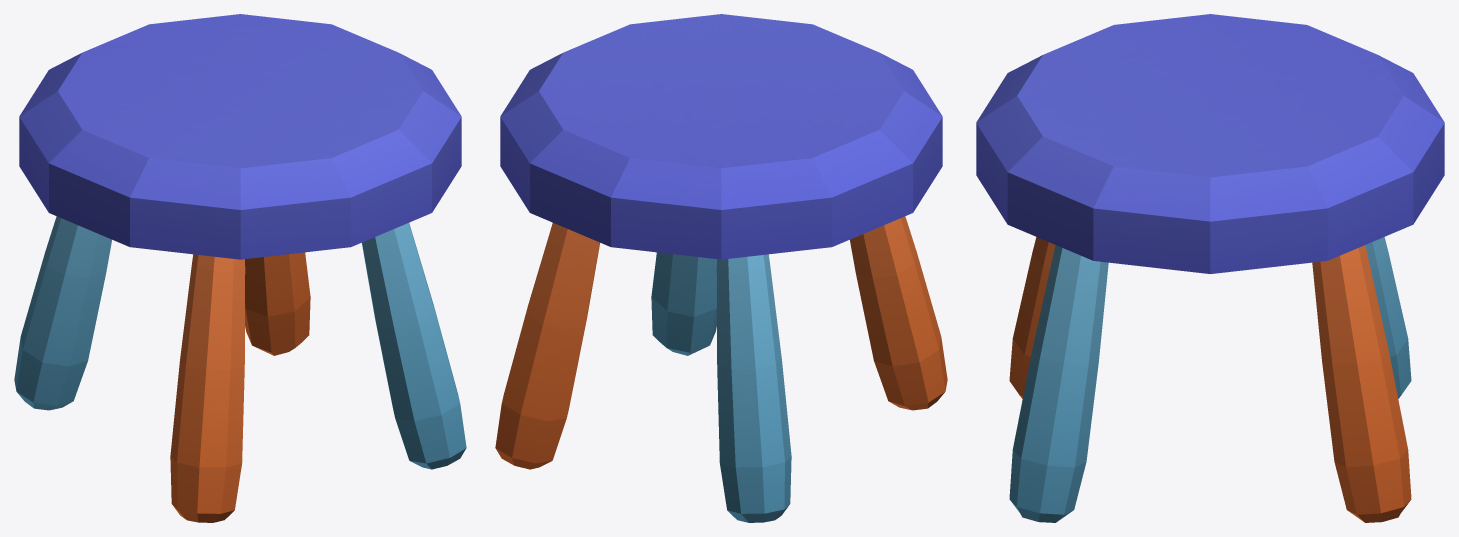
The model's file is stool.fbx.
The picture shows the model from 3 angles, left to right: view 1: azimuth 30°, elevation 25°; view 2: azimuth 150°, elevation 25°; view 3: azimuth 270°, elevation 25°; orthographic projection. The views are drawn at different scales.
Parts seen in each view (by area): view 1: stool; view 2: stool; view 3: stool.
Boxes of the visible parts, x1,y1,x2,y2 form: stool: (14, 14, 466, 522); stool: (495, 14, 947, 522); stool: (976, 14, 1444, 522).
Bounding box in the file's own units: 46.34 × 39.68 × 46.34.
